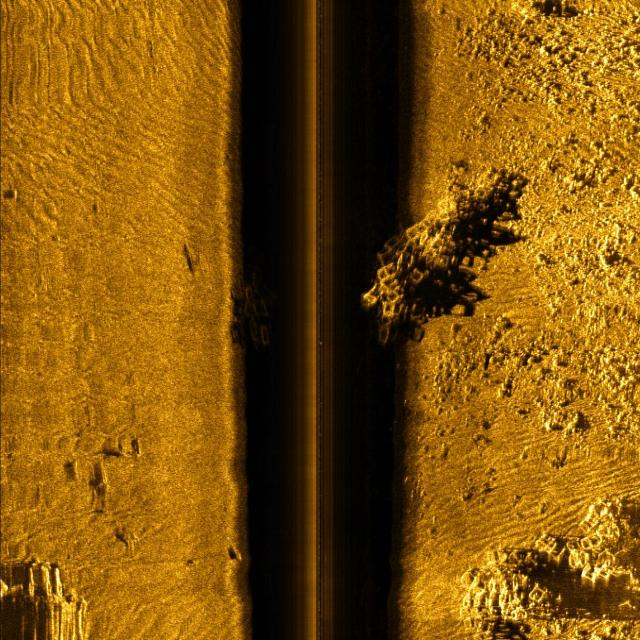artificial reef: (356, 189, 526, 345), (235, 252, 285, 346)
